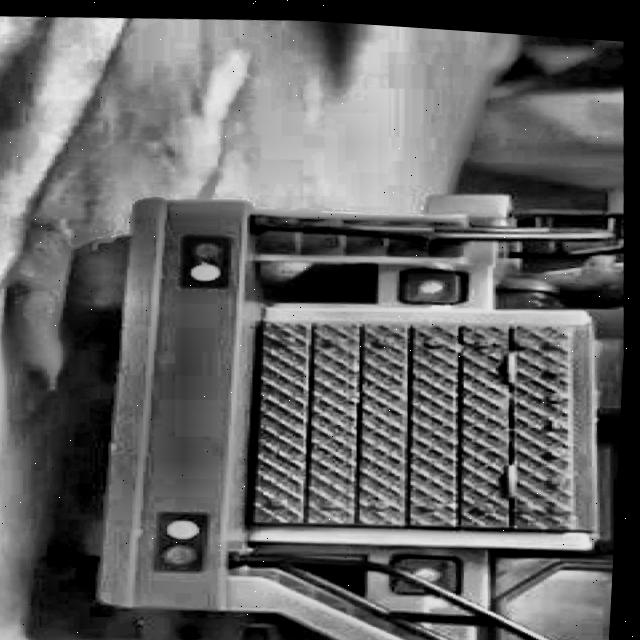dump_truck: (0, 127, 635, 640)
